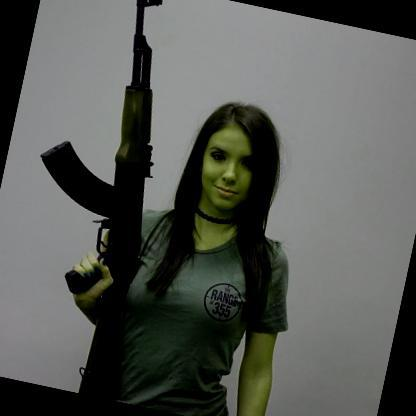rifle: (0, 0, 212, 403)
